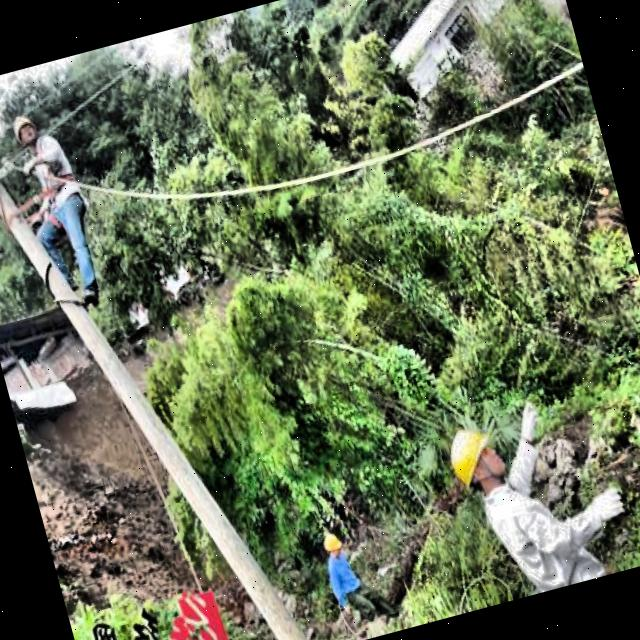helmet: (439, 411, 516, 508), (6, 102, 44, 146), (318, 527, 348, 564)
